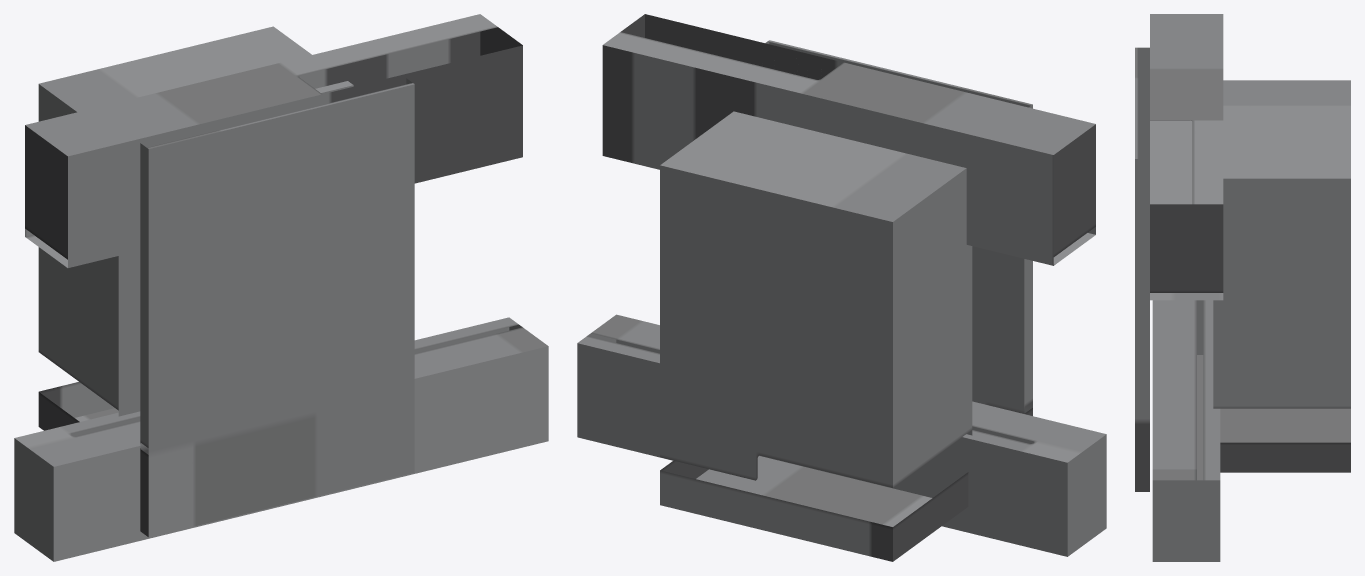
3 renders of one model, left to right at view 1: azimuth 30°, elevation 25°; view 2: azimuth 150°, elevation 25°; view 3: azimuth 270°, elevation 25°, orthographic. The views are drawn at different scales.
Size of the model in its own units: 1 by 0.7798 by 0.4404.
